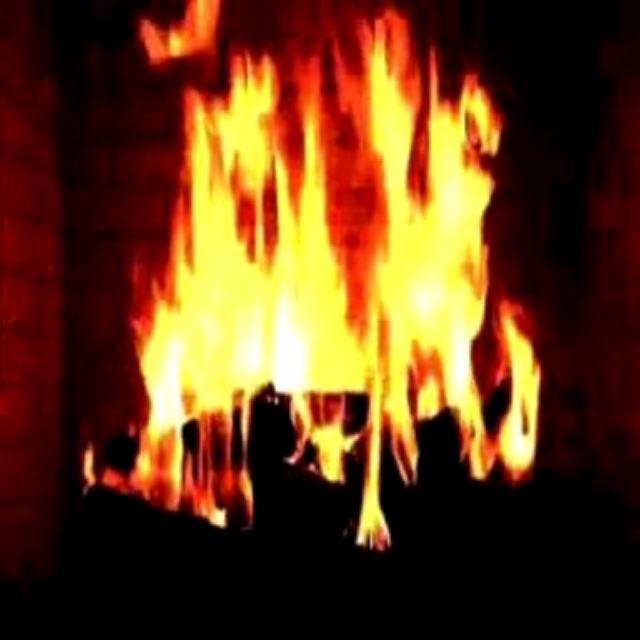fire: (88, 2, 560, 551)
